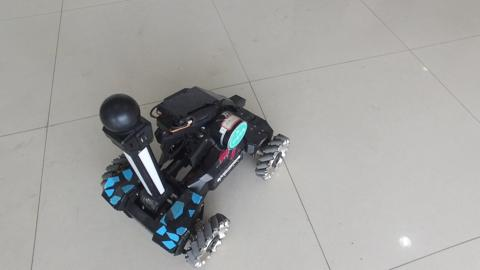chariot: (93, 61, 284, 243)
